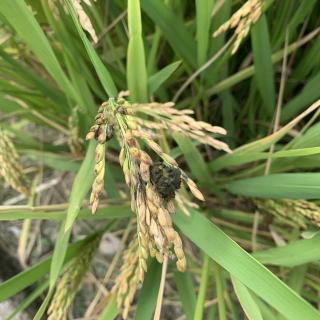Gosong-Palsu: (147, 160, 183, 200), (93, 121, 115, 143)
